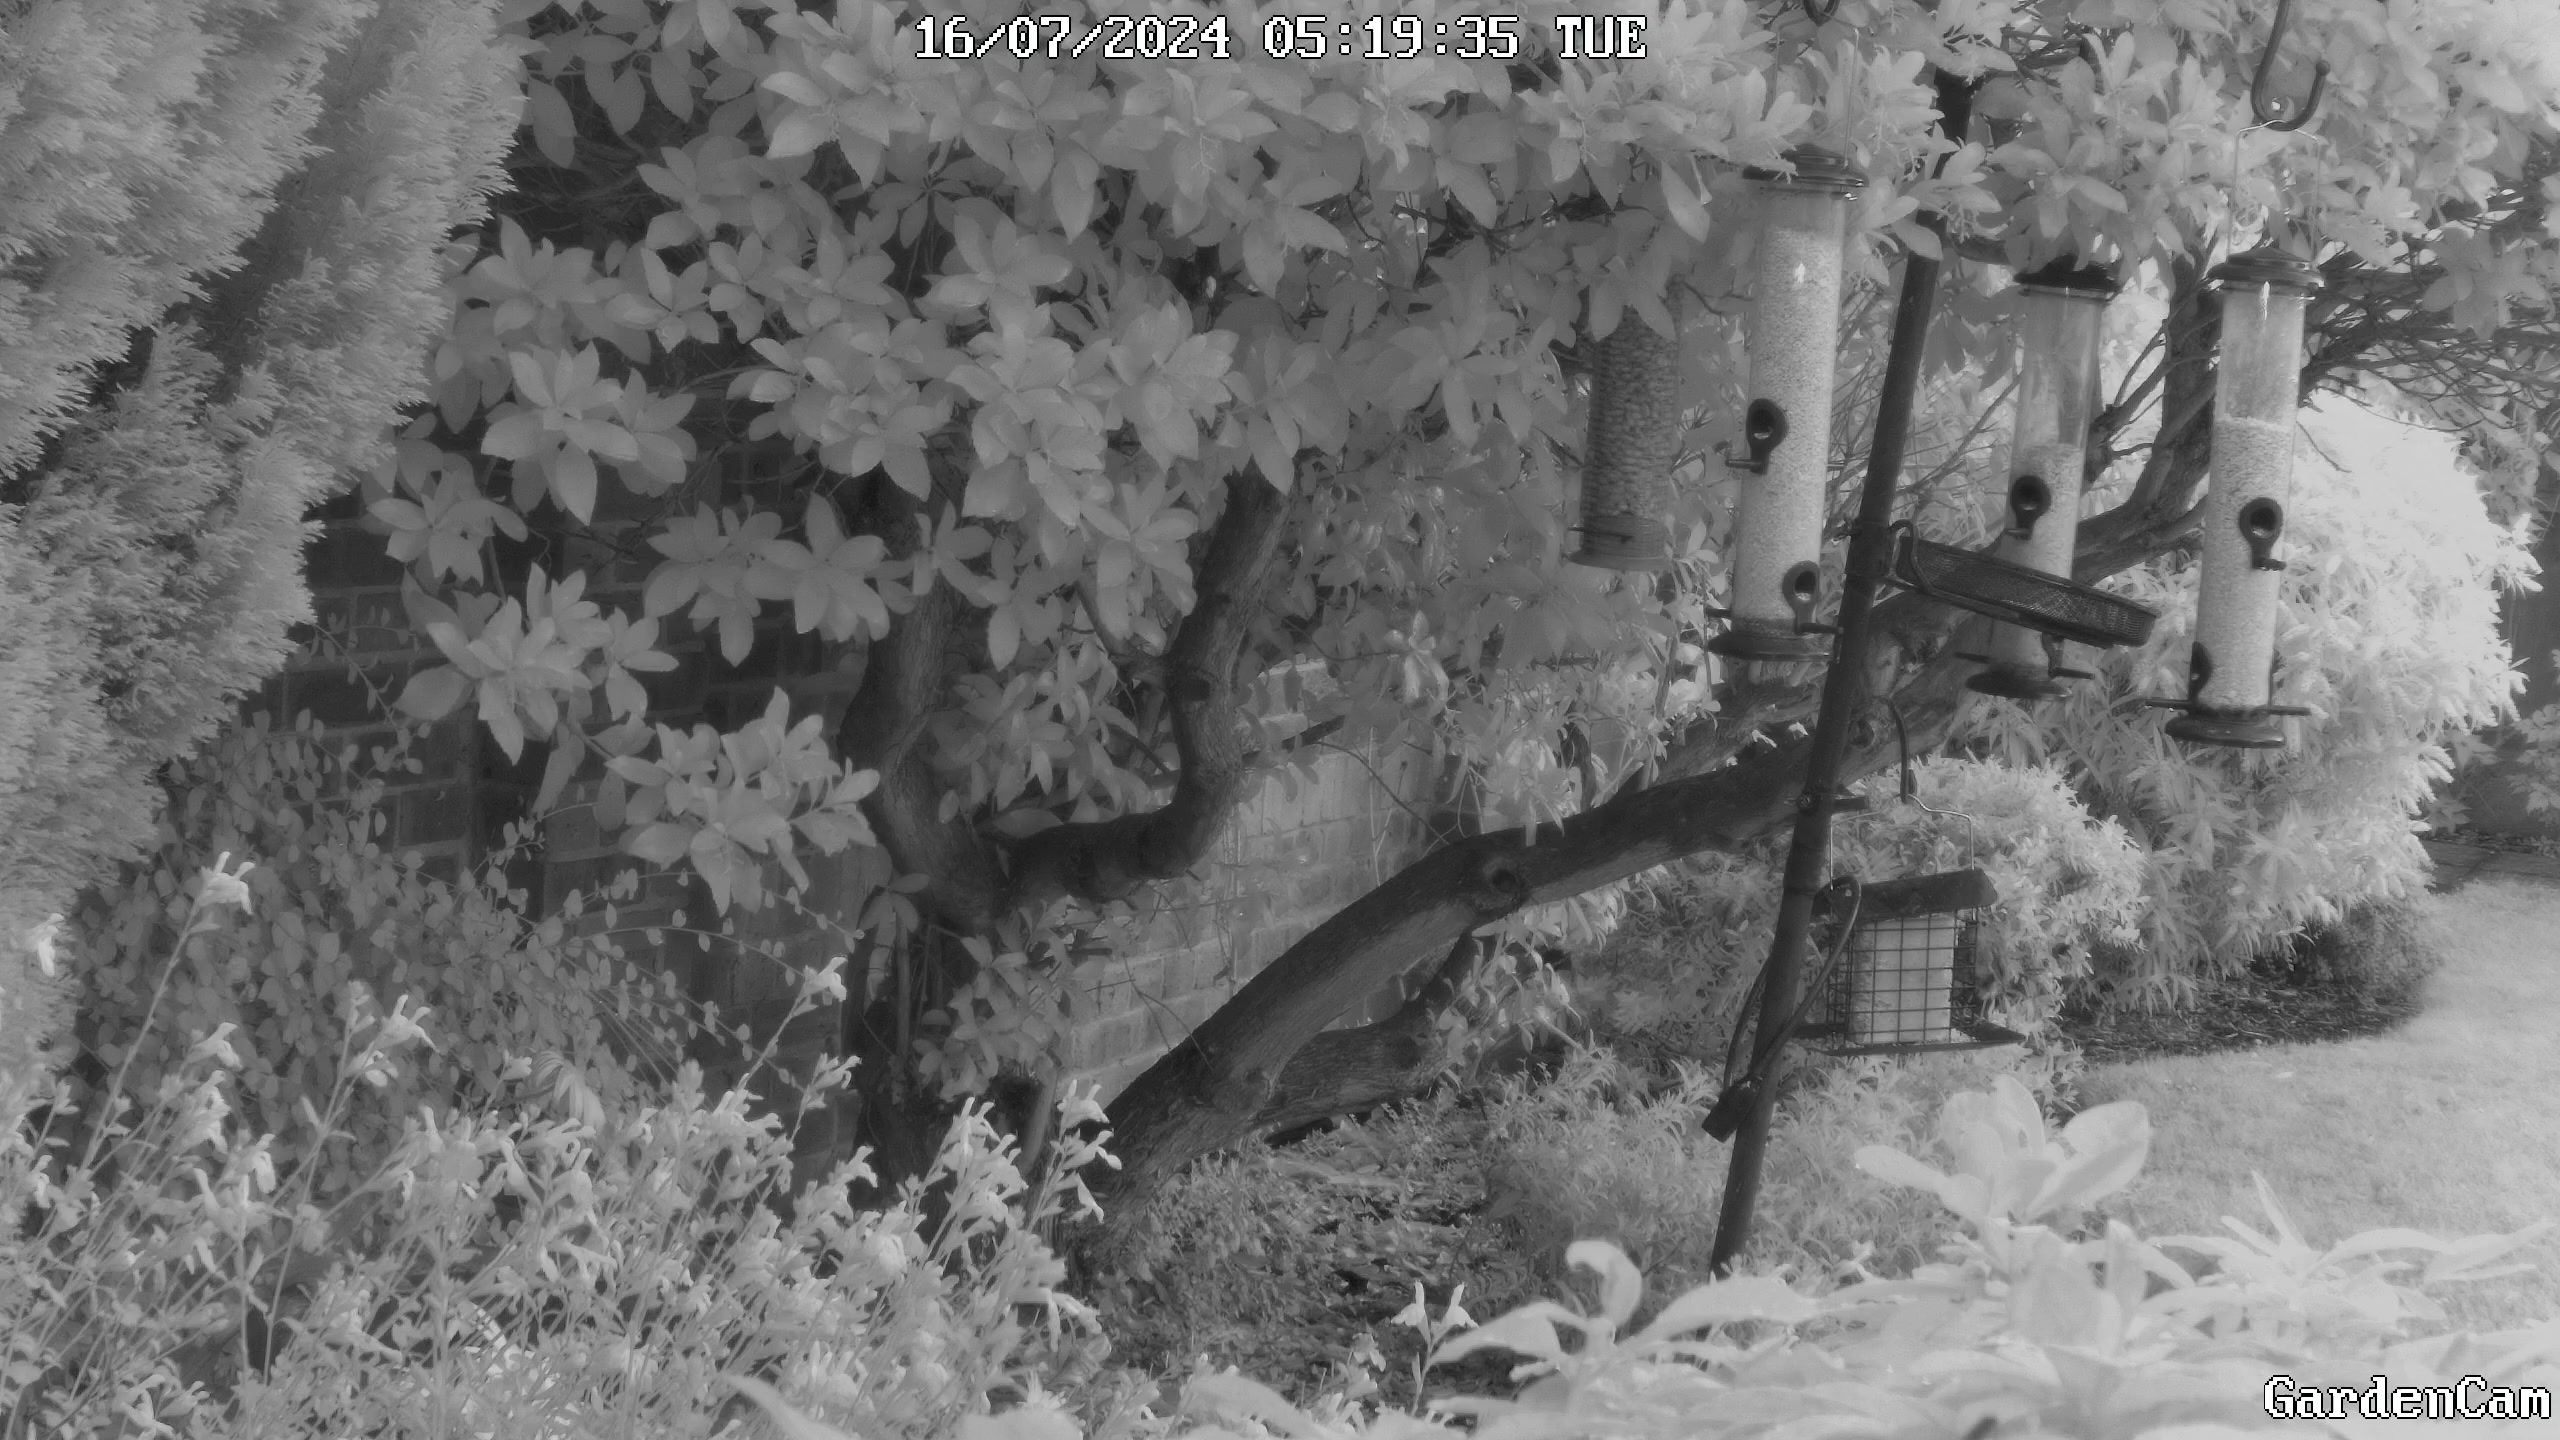Robin: (1953, 905, 2041, 1029)
